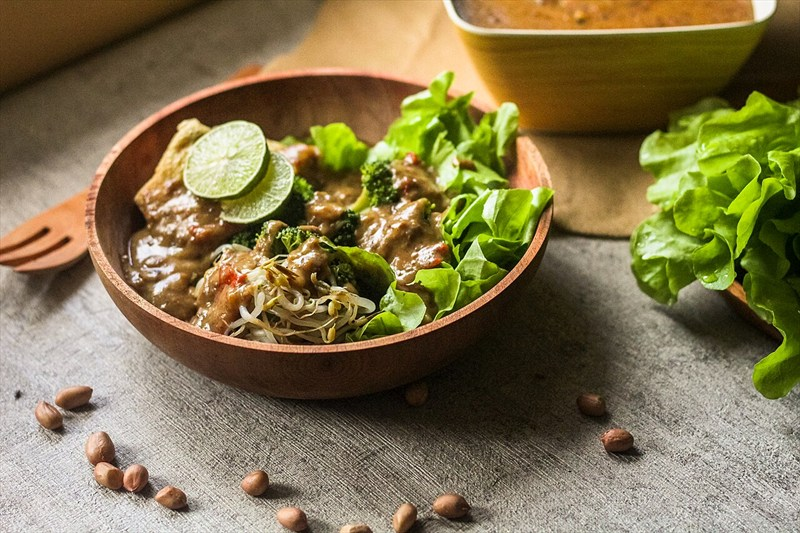Gado-Gado: (97, 79, 773, 361)
